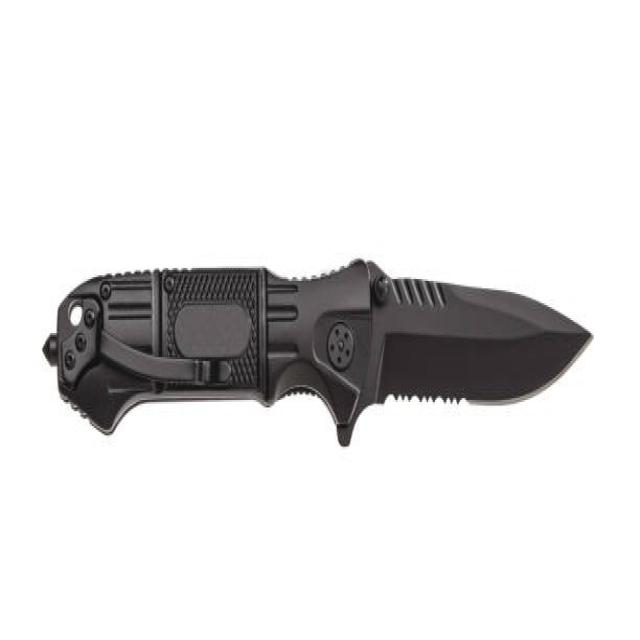knife: (36, 247, 599, 451)
